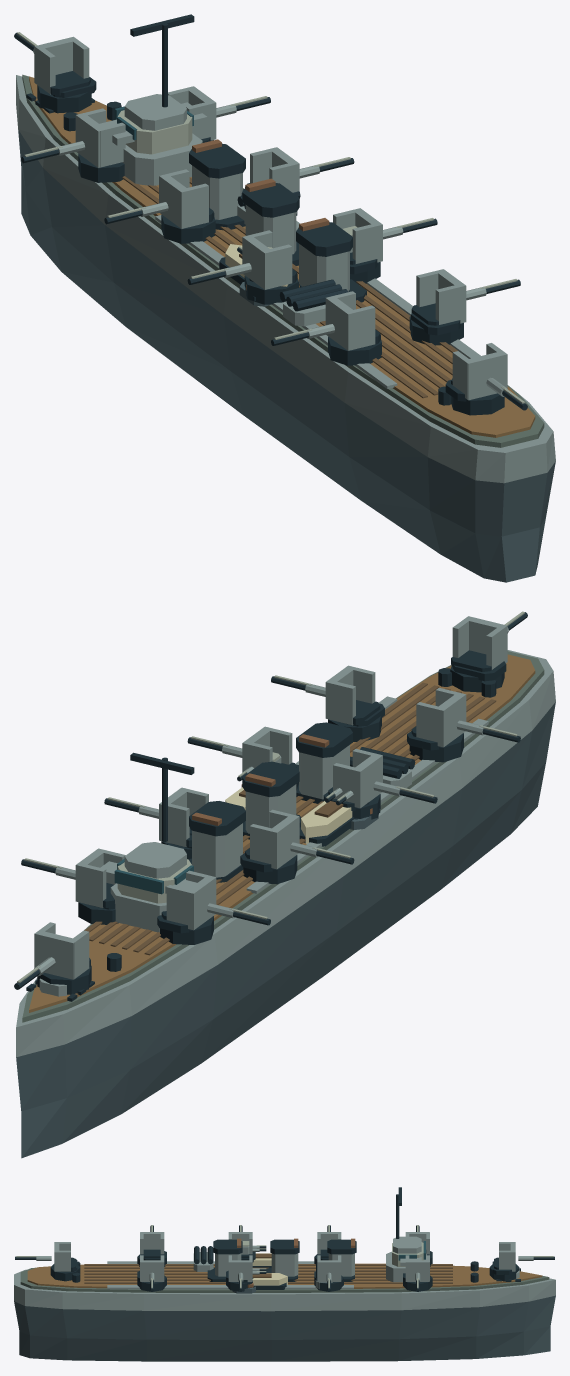
Rendered from historic-bahia.glb.
The picture shows the model from 3 angles, top to bottom: view 1: azimuth 30°, elevation 25°; view 2: azimuth 150°, elevation 25°; view 3: azimuth 270°, elevation 25°; orthographic projection. The views are drawn at different scales.
Visible parts, largest first — view 1: historic-bahia-historic-bahia-geometry, historic-bahia-part_bridge.066-geometry, historic-bahia-turret_main_9.001-geometry, historic-bahia-turret_main_0.057-geometry, historic-bahia-turret_main_4.007-geometry, historic-bahia-turret_main_8.001-geometry, historic-bahia-turret_main_1.055-geometry, historic-bahia-turret_main_6.001-geometry, historic-bahia-turret_main_2.048-geometry, historic-bahia-historic_funnel_2.002-geometry, historic-bahia-historic_funnel_0.068-geometry, historic-bahia-historic_funnel_1.037-geometry (+4 smaller); view 2: historic-bahia-historic-bahia-geometry, historic-bahia-part_bridge.066-geometry, historic-bahia-turret_main_8.001-geometry, historic-bahia-turret_main_1.055-geometry, historic-bahia-turret_main_4.007-geometry, historic-bahia-turret_main_9.001-geometry, historic-bahia-turret_main_2.048-geometry, historic-bahia-historic_funnel_0.068-geometry, historic-bahia-turret_main_0.057-geometry, historic-bahia-historic_funnel_2.002-geometry, historic-bahia-turret_main_6.001-geometry, historic-bahia-turret_main_3.030-geometry (+4 smaller); view 3: historic-bahia-historic-bahia-geometry, historic-bahia-part_bridge.066-geometry, historic-bahia-historic_funnel_1.037-geometry, historic-bahia-turret_main_0.057-geometry, historic-bahia-turret_main_1.055-geometry, historic-bahia-historic_funnel_2.002-geometry, historic-bahia-turret_main_9.001-geometry, historic-bahia-historic_funnel_0.068-geometry, historic-bahia-turret_main_3.030-geometry, historic-bahia-turret_main_5.002-geometry, historic-bahia-turret_main_7.001-geometry, historic-bahia-turret_main_8.001-geometry (+4 smaller).
Boxes of the visible parts, box(x1,y1,x2,y2) form: historic-bahia-historic-bahia-geometry: box(16, 74, 555, 582); historic-bahia-part_bridge.066-geometry: box(99, 14, 207, 185); historic-bahia-turret_main_9.001-geometry: box(409, 269, 520, 345); historic-bahia-turret_main_0.057-geometry: box(14, 32, 96, 113); historic-bahia-turret_main_4.007-geometry: box(104, 169, 215, 243); historic-bahia-turret_main_8.001-geometry: box(271, 291, 381, 365); historic-bahia-turret_main_1.055-geometry: box(445, 343, 527, 415); historic-bahia-turret_main_6.001-geometry: box(187, 230, 298, 304); historic-bahia-turret_main_2.048-geometry: box(21, 108, 125, 182); historic-bahia-historic_funnel_2.002-geometry: box(296, 218, 366, 302); historic-bahia-historic_funnel_0.068-geometry: box(189, 139, 245, 230); historic-bahia-historic_funnel_1.037-geometry: box(242, 178, 299, 265); historic-bahia-historic-bahia-geometry: box(16, 650, 555, 1158); historic-bahia-part_bridge.066-geometry: box(100, 752, 196, 932); historic-bahia-turret_main_8.001-geometry: box(407, 688, 520, 762); historic-bahia-turret_main_1.055-geometry: box(450, 611, 527, 692); historic-bahia-turret_main_4.007-geometry: box(240, 809, 354, 884); historic-bahia-turret_main_9.001-geometry: box(271, 665, 384, 741); historic-bahia-turret_main_2.048-geometry: box(157, 870, 270, 944); historic-bahia-historic_funnel_0.068-geometry: box(189, 801, 245, 882); historic-bahia-turret_main_0.057-geometry: box(14, 922, 91, 994); historic-bahia-historic_funnel_2.002-geometry: box(296, 722, 352, 803); historic-bahia-turret_main_6.001-geometry: box(323, 749, 437, 819); historic-bahia-turret_main_3.030-geometry: box(21, 848, 125, 924); historic-bahia-historic-bahia-geometry: box(14, 1253, 555, 1361); historic-bahia-part_bridge.066-geometry: box(386, 1187, 426, 1282); historic-bahia-historic_funnel_1.037-geometry: box(266, 1238, 299, 1281); historic-bahia-turret_main_0.057-geometry: box(489, 1242, 554, 1281); historic-bahia-turret_main_1.055-geometry: box(15, 1242, 80, 1281); historic-bahia-historic_funnel_2.002-geometry: box(207, 1238, 242, 1281); historic-bahia-turret_main_9.001-geometry: box(137, 1255, 166, 1291); historic-bahia-historic_funnel_0.068-geometry: box(327, 1238, 356, 1281); historic-bahia-turret_main_3.030-geometry: box(403, 1255, 432, 1291); historic-bahia-turret_main_5.002-geometry: box(314, 1255, 343, 1291); historic-bahia-turret_main_7.001-geometry: box(226, 1255, 252, 1291); historic-bahia-turret_main_8.001-geometry: box(137, 1225, 166, 1266).
Bounding box in the file's own units: 1.21 × 1.38 × 4.32.
